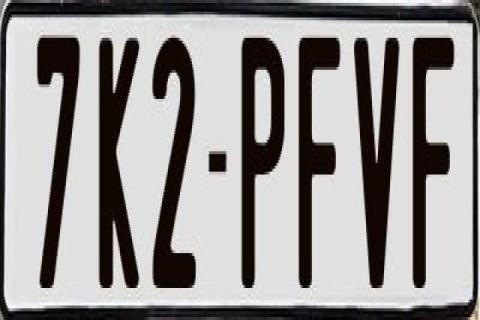0: (38, 29, 84, 282), (150, 32, 194, 291)
F: (409, 35, 456, 299), (296, 29, 342, 288)
K: (98, 29, 146, 297)
P: (241, 29, 292, 297)
V: (353, 35, 405, 285)
